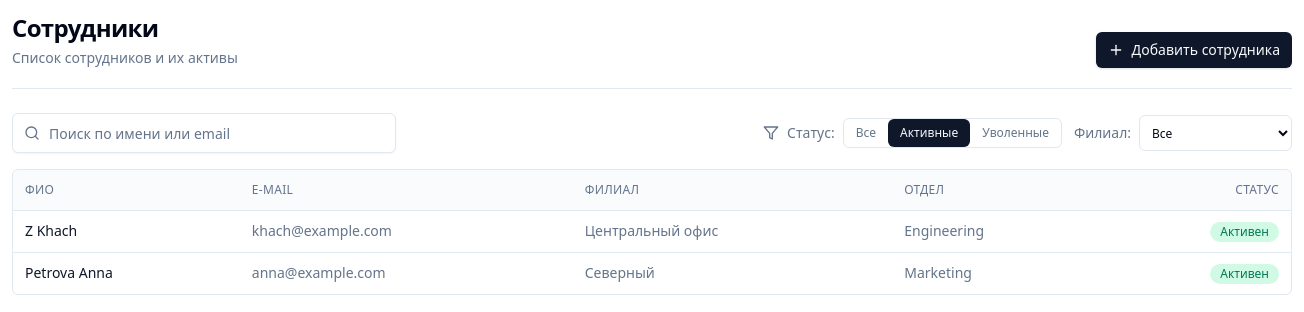
Test case: EmployeeListPage › search input filters rows by name and email
Expected: the link "Z Khach" is shown, x1=25 y1=221 x2=77 y2=240
Expected: the link "Petrova Anna" is shown, x1=25 y1=263 x2=113 y2=282
Type "anna" into the search field.
click(204, 133); type("anna")  # box x1=12 y1=113 x2=396 y2=153
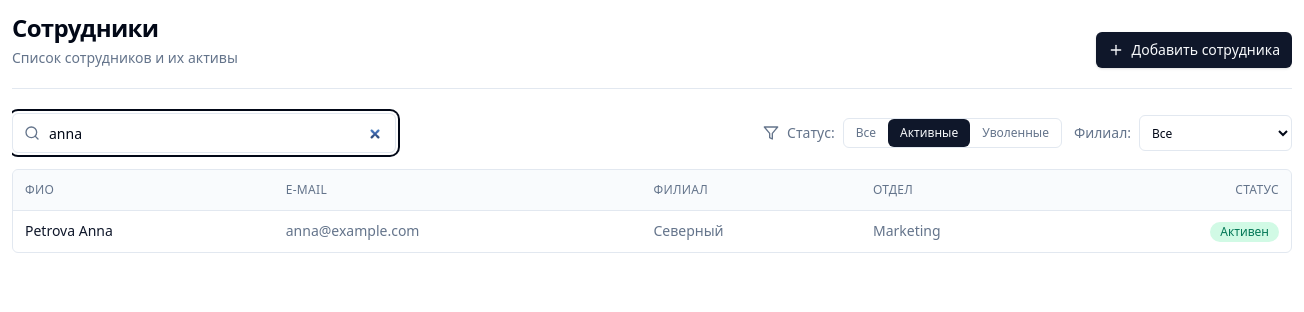
Expected: the link "Petrova Anna" is shown, x1=25 y1=221 x2=113 y2=240
Expected: the link "Z Khach" is gone
